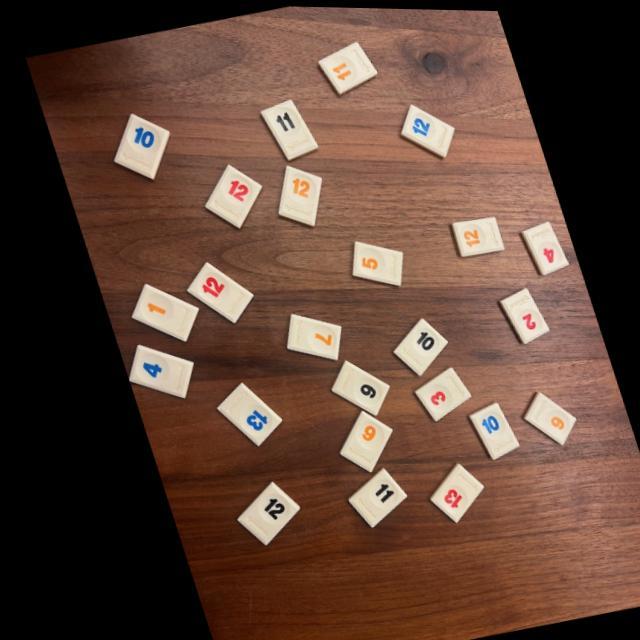black_10: (387, 316, 440, 373)
black_11: (337, 466, 395, 526), (259, 100, 314, 158)
black_12: (225, 480, 288, 544)
black_6: (323, 359, 380, 413)
blue_10: (111, 113, 166, 178), (460, 400, 508, 457)
blue_12: (398, 103, 451, 155)
blue_13: (207, 381, 272, 444)
blue_4: (120, 344, 185, 397)
orange_1: (124, 283, 191, 340)
orange_11: (317, 40, 376, 92)
orange_12: (273, 164, 317, 224), (447, 214, 498, 255)
orange_5: (346, 239, 395, 283)
orange_6: (515, 390, 565, 442)
orange_7: (278, 312, 332, 358)
orange_9: (329, 409, 382, 470)
red_12: (181, 261, 246, 321), (200, 164, 257, 226)
red_13: (419, 461, 472, 520)
red_2: (493, 285, 542, 341)
red_3: (406, 365, 462, 419)
red_4: (518, 218, 562, 272)
